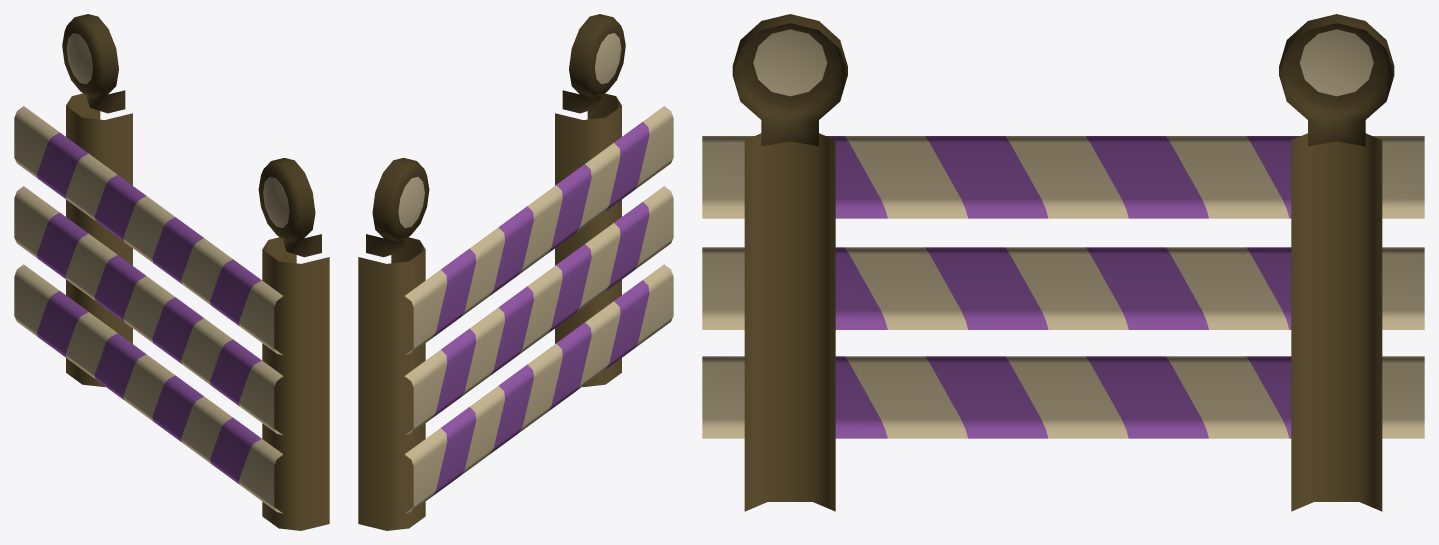
The model's file is ChocolateBarricade_full_MDL.fbx.
3 views of the same model, side by side, from view 1: azimuth 30°, elevation 25°; view 2: azimuth 150°, elevation 25°; view 3: azimuth 270°, elevation 25° (orthographic). The views are drawn at different scales.
Parts seen in each view (by area): view 1: barricade_full_GEO; view 2: barricade_full_GEO; view 3: barricade_full_GEO.
Part boxes in pixels (x1,y1,x2,y2): barricade_full_GEO: (14, 14, 329, 530); barricade_full_GEO: (358, 14, 673, 530); barricade_full_GEO: (702, 14, 1424, 511).
Size of the model in its own units: 41.46 by 200 by 264.
